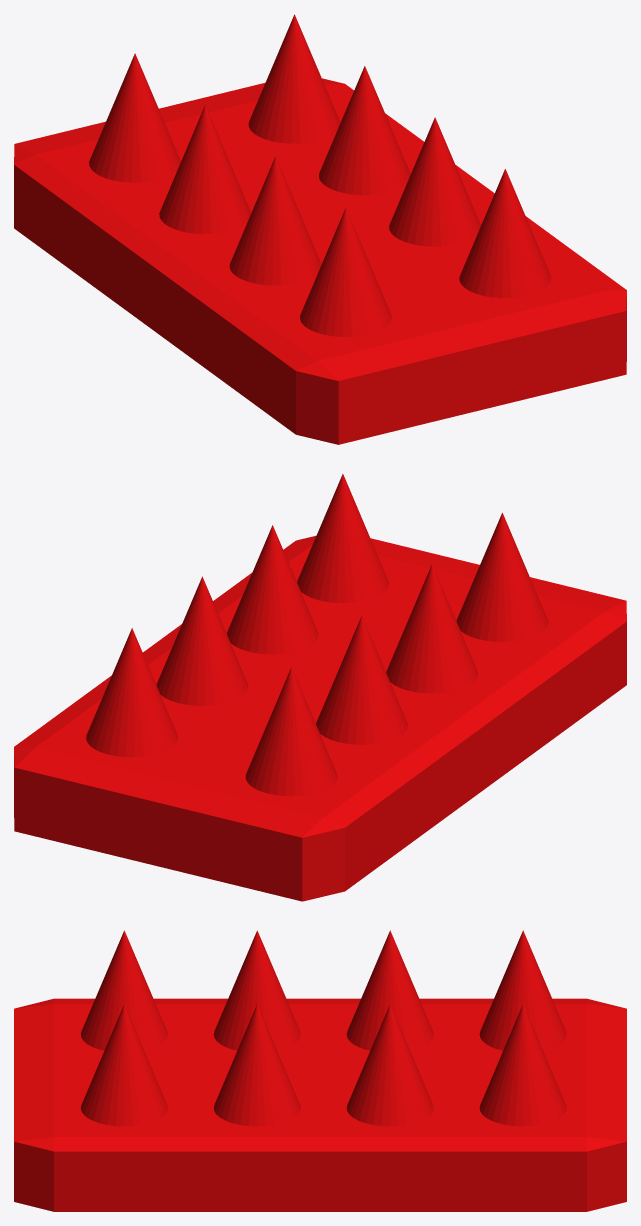
The model's file is Diken.fbx.
The picture shows the model from 3 angles, top to bottom: view 1: azimuth 30°, elevation 25°; view 2: azimuth 150°, elevation 25°; view 3: azimuth 270°, elevation 25°; orthographic projection. The views are drawn at different scales.
Visible parts, largest first — view 1: Cube, Circle; view 2: Cube, Circle; view 3: Cube, Circle.
Boxes of the visible parts, <box> form: Cube: <box>14,78,626,444</box>; Circle: <box>89,14,551,336</box>; Cube: <box>14,536,626,901</box>; Circle: <box>86,474,548,796</box>; Cube: <box>14,998,626,1211</box>; Circle: <box>81,930,566,1126</box>.
Bounding box in the file's own units: 200 × 106 × 339.
